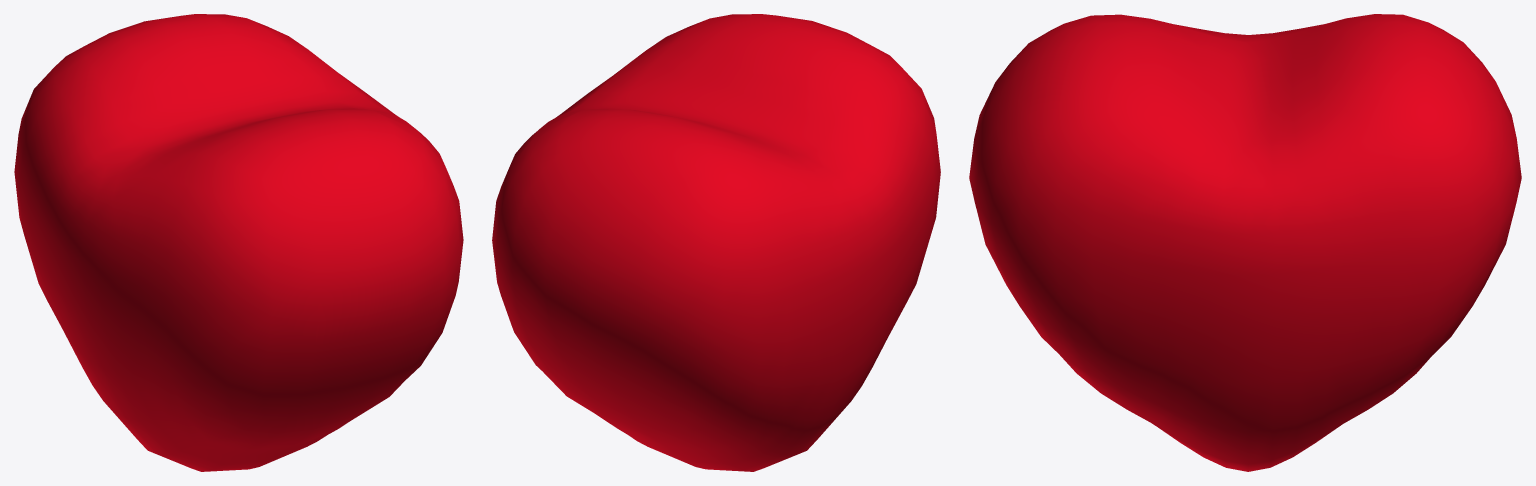
Rendered from heart.fbx.
The picture shows the model from 3 angles, left to right: view 1: azimuth 30°, elevation 25°; view 2: azimuth 150°, elevation 25°; view 3: azimuth 270°, elevation 25°; orthographic projection. The views are drawn at different scales.
Visible parts, largest first — view 1: Cube; view 2: Cube; view 3: Cube.
Boxes of the visible parts, x1=… form: Cube: x1=14, y1=14, x2=463, y2=471; Cube: x1=492, y1=14, x2=940, y2=471; Cube: x1=969, y1=14, x2=1521, y2=471.
Size of the model in its own units: 172 by 189 by 227.
